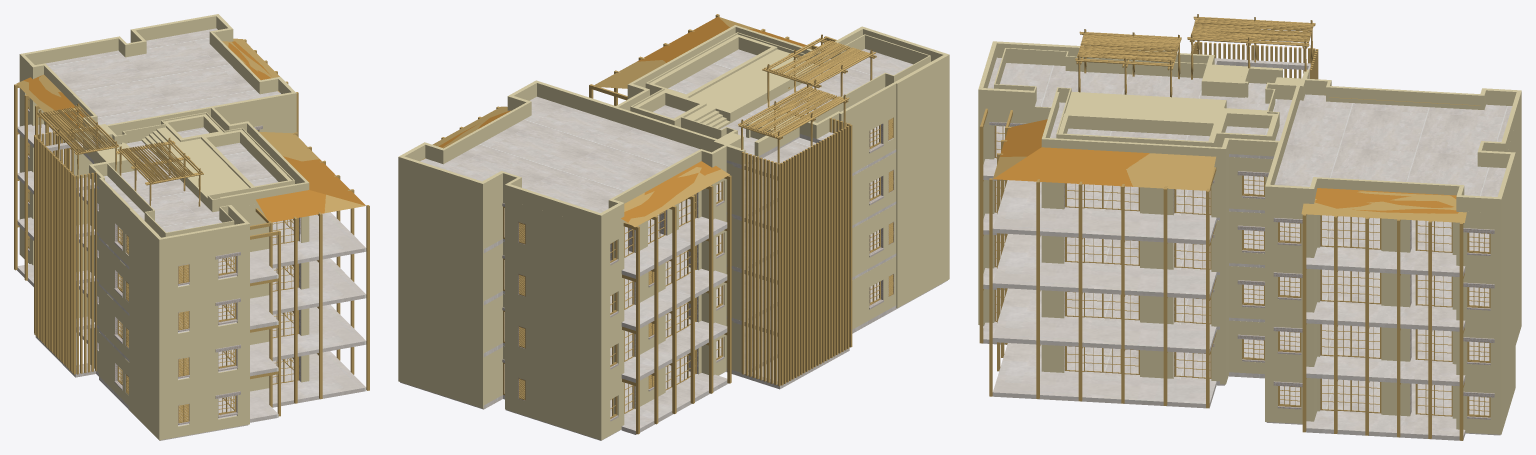
File: Residencial01.glb
3 views of the same model, side by side, from view 1: azimuth 30°, elevation 25°; view 2: azimuth 150°, elevation 25°; view 3: azimuth 270°, elevation 25° (orthographic). The views are drawn at different scales.
Visible parts, largest first — view 1: R01_Wall01, R01_Floorplates, R01_Fachada, R01_Wall02, R01_Celosia, R01_Teja, R01_Frames, R01_Cornisa; view 2: R01_Wall01, R01_Wall02, R01_Floorplates, R01_Celosia, R01_Fachada, R01_Frames, R01_Teja, R01_Cornisa; view 3: R01_Floorplates, R01_Wall01, R01_Fachada, R01_Wall02, R01_Frames, R01_Teja, R01_Cornisa, R01_Celosia.
Boxes of the visible parts, <box> form: R01_Wall01: <box>22,14,308,440</box>; R01_Floorplates: <box>17,28,366,440</box>; R01_Fachada: <box>14,38,369,423</box>; R01_Wall02: <box>19,36,309,406</box>; R01_Celosia: <box>34,128,96,374</box>; R01_Teja: <box>20,41,365,222</box>; R01_Frames: <box>28,98,298,414</box>; R01_Cornisa: <box>28,109,300,424</box>; R01_Wall01: <box>398,25,949,408</box>; R01_Wall02: <box>503,25,896,440</box>; R01_Floorplates: <box>400,49,947,440</box>; R01_Celosia: <box>741,117,852,386</box>; R01_Fachada: <box>422,14,893,434</box>; R01_Frames: <box>503,124,880,418</box>; R01_Teja: <box>438,17,806,222</box>; R01_Cornisa: <box>502,121,894,421</box>; R01_Floorplates: <box>981,57,1512,440</box>; R01_Wall01: <box>978,41,1519,434</box>; R01_Fachada: <box>979,14,1479,440</box>; R01_Wall02: <box>1041,53,1521,418</box>; R01_Frames: <box>994,126,1490,417</box>; R01_Teja: <box>993,119,1458,216</box>; R01_Cornisa: <box>989,122,1494,419</box>; R01_Celosia: <box>1190,41,1318,79</box>.
Size of the model in its own units: 24.52 by 18.66 by 34.31.
Materials: 5 (2 with a texture image).
